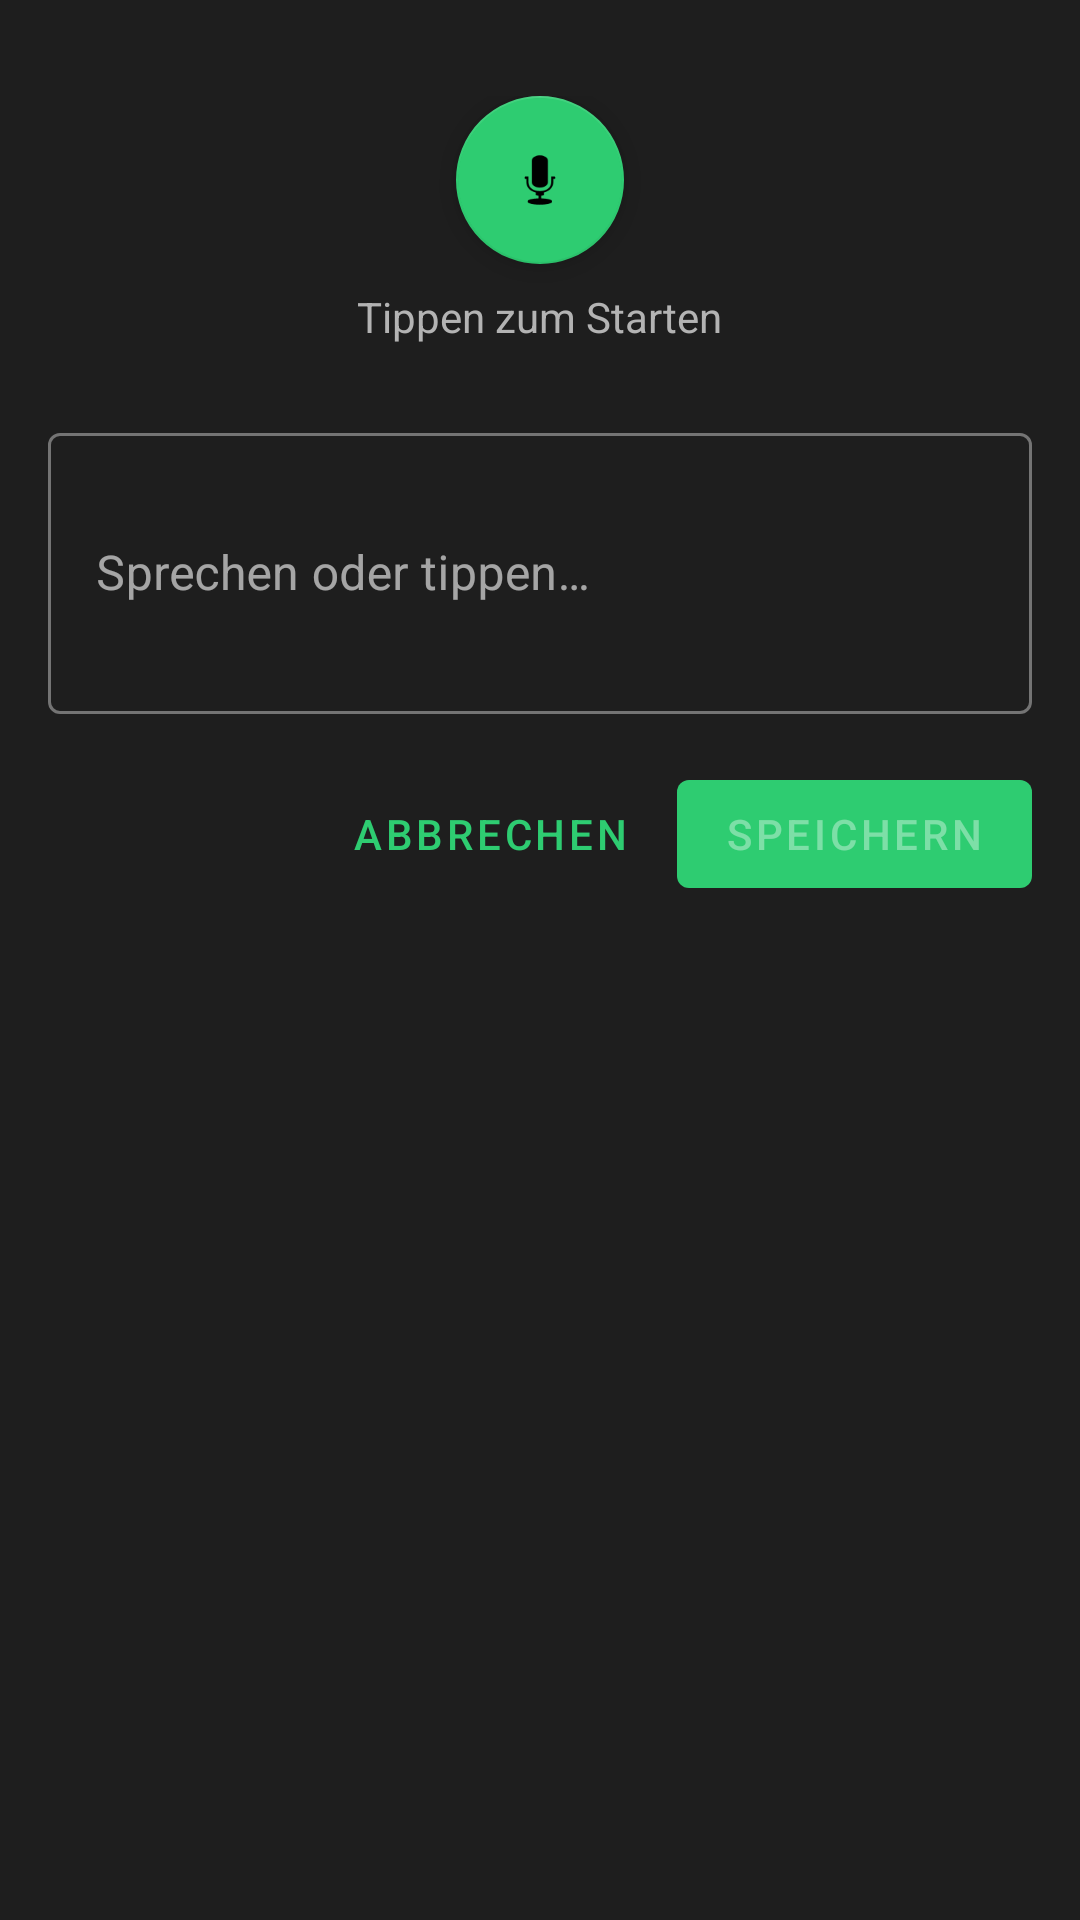

Icons on this 1080×1920 Android screen, each with the point to tap as (x,y):
Spracheingabe starten: (540,180)
